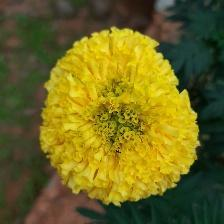marigold: (38, 26, 200, 207)
